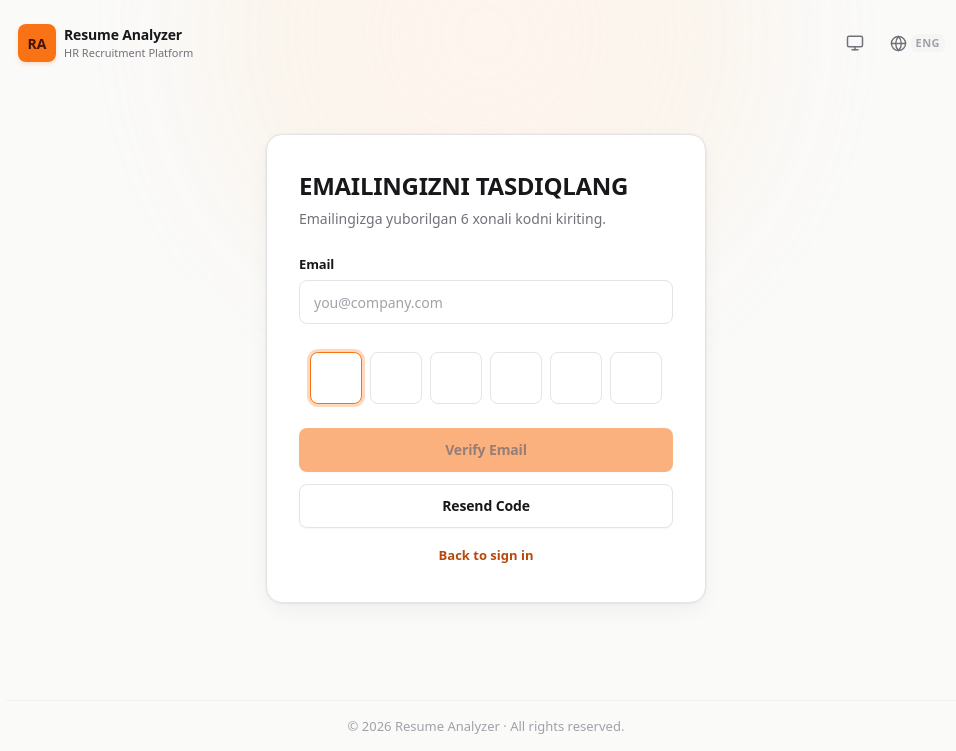
VerifyEmailPage (OTP) › shows the backend's invalid-code error
This screenshot has width=956, height=751.
Type "jane@example.com" into the field labelled "Email".
click(486, 302); type("jane@example.com")  # box [299,280,673,324]
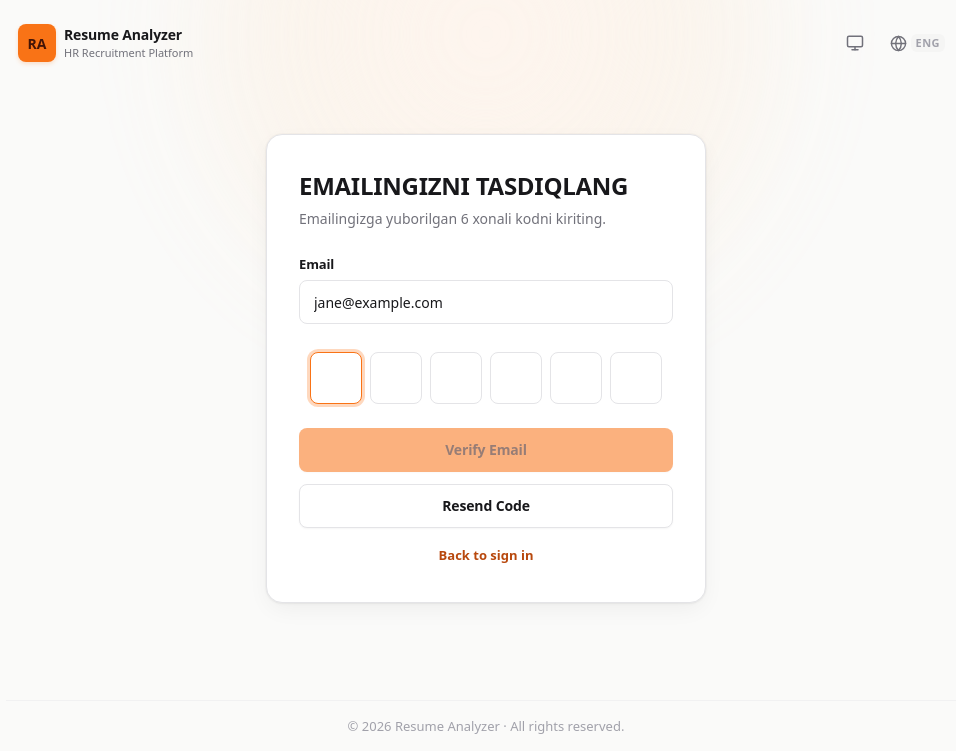
Type "000000" into the 1st field with class "otp-input__box".
click(336, 378); type("000000")  # box [310,352,362,404]
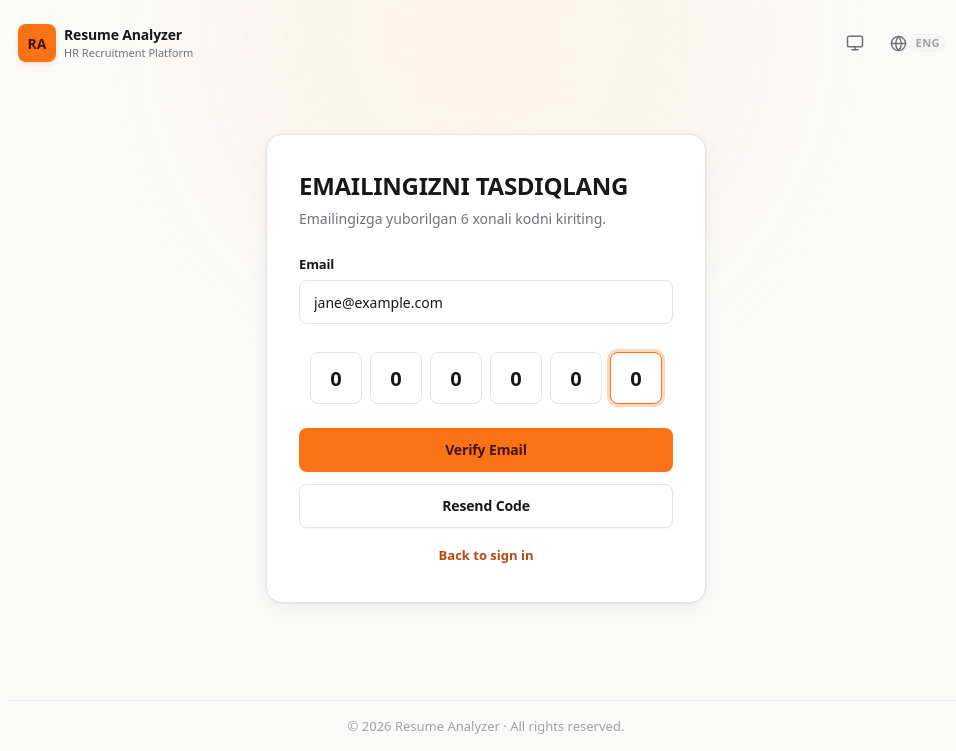
Click the button "Verify Email".
click(486, 450)  # box [299,428,673,472]
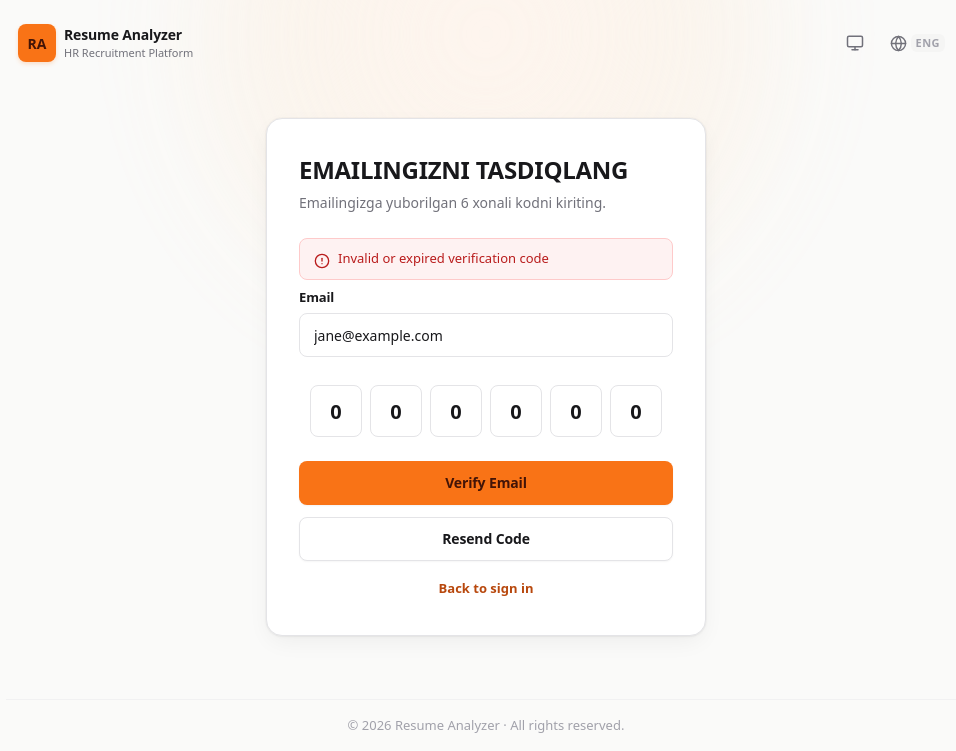
Expected: the text "Invalid or expired verification code" is shown, [338,249,549,267]
